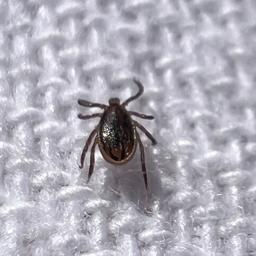Ixodes scapularis: (77, 77, 157, 187)
